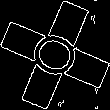O_SE: (23, 25, 87, 85)
